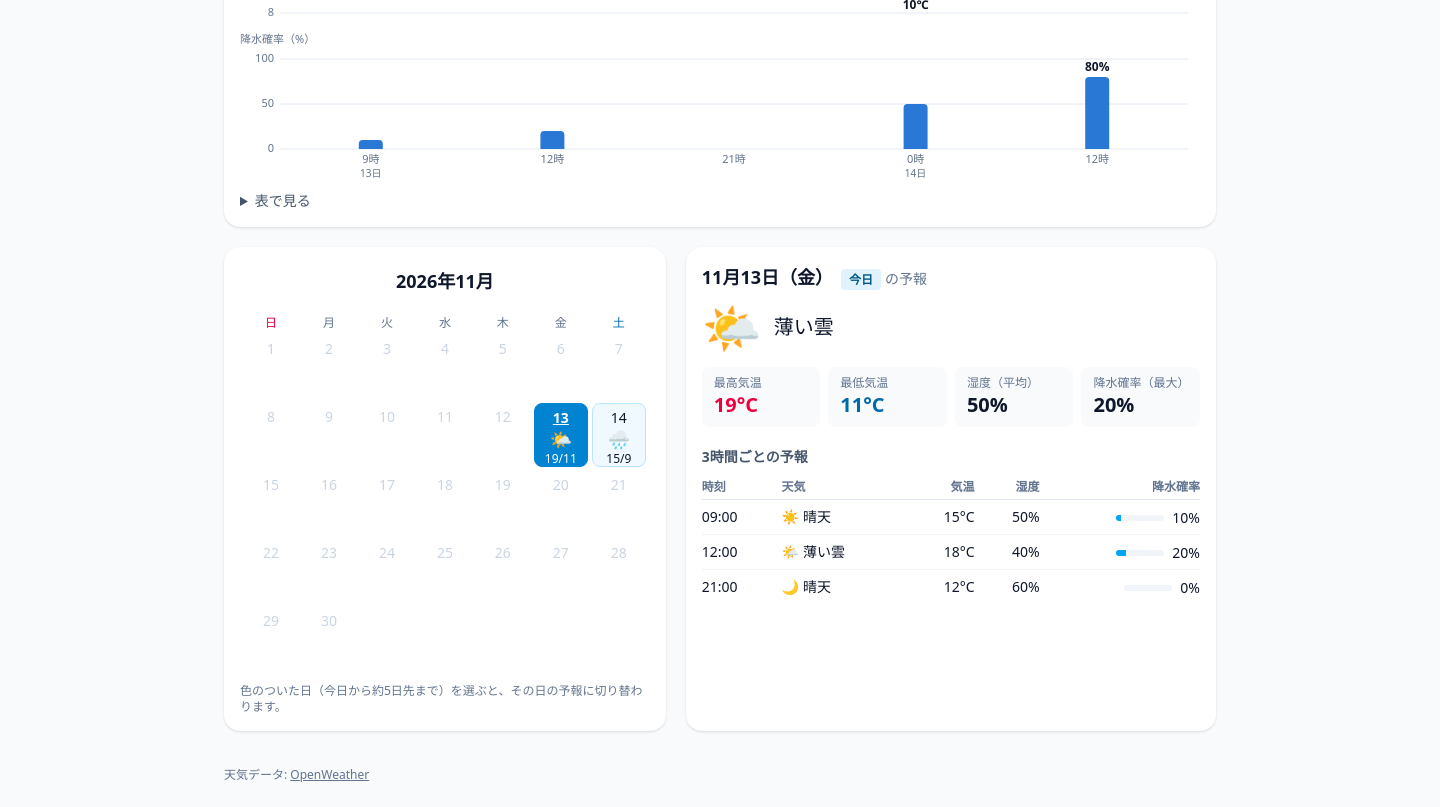
WeatherApp › 服装・傘アドバイスを表示し、選んだ日に合わせて切り替える
(page scrolled)
Click the button named "11月14日（土）" at {"x": 619, "y": 435}, box [592,403,646,467]
(page scrolled)
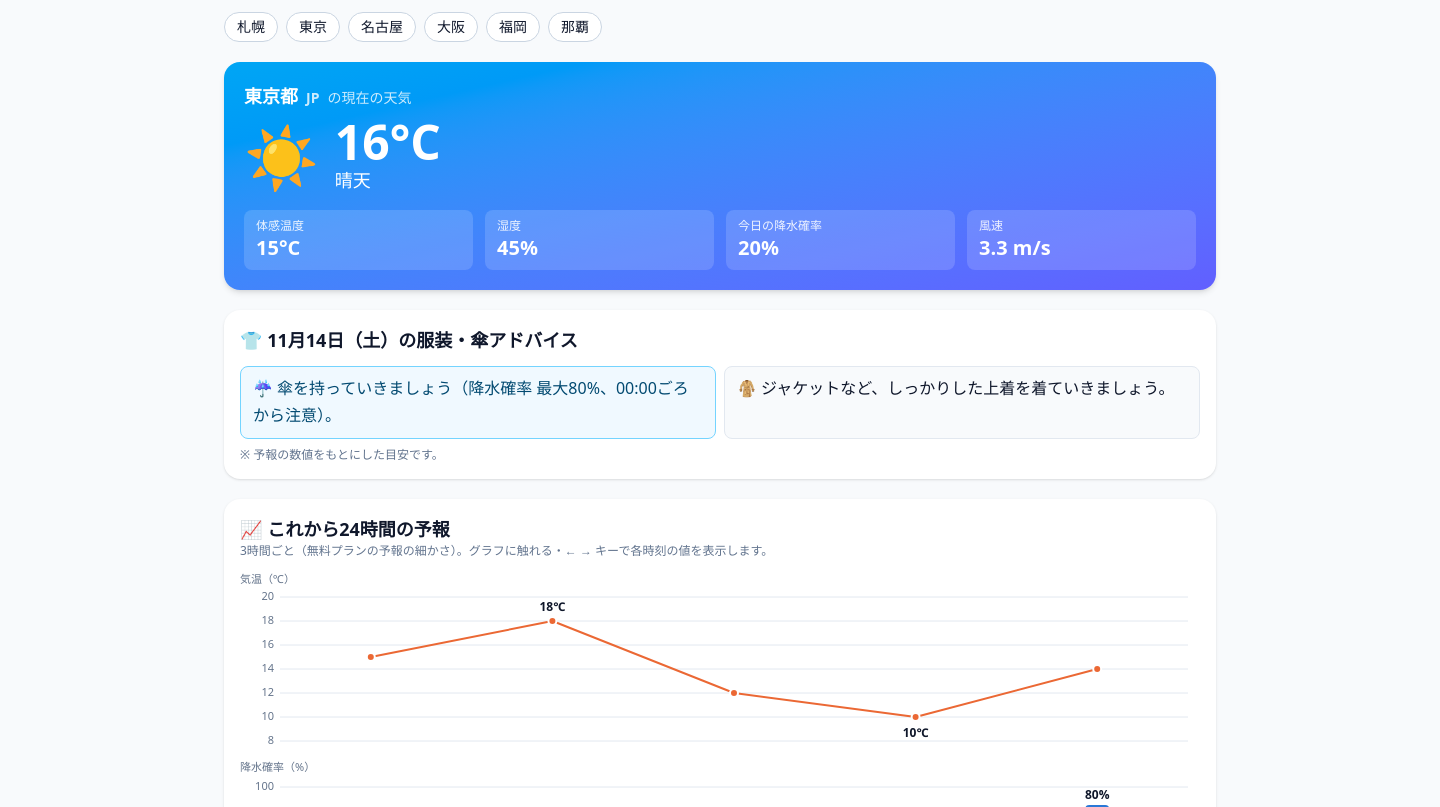
Check: the list item "☔傘を持っていきましょう（降水確率 最大80%、00:00ごろから注意）。" is shown, box [240,366,716,439]
